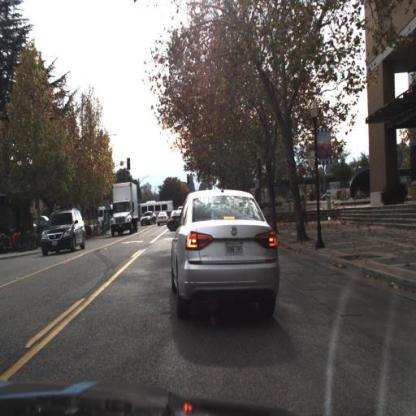car: (168, 188, 282, 322), (40, 208, 89, 257), (140, 210, 158, 231), (169, 211, 183, 231), (157, 212, 169, 227)
pedestrian: (300, 194, 310, 227)
trafficLight-Red: (186, 173, 191, 187)
truck: (110, 181, 141, 239), (98, 201, 174, 224)
